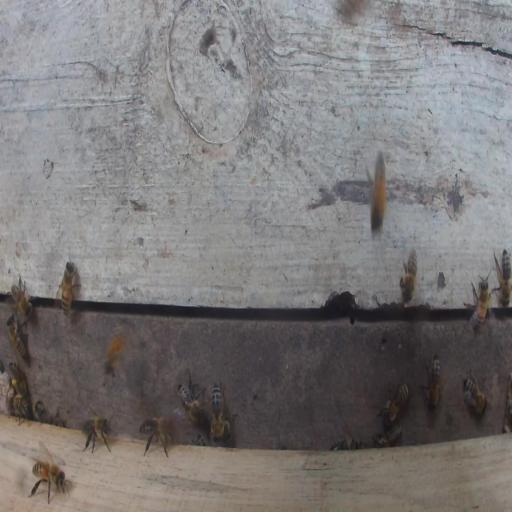bee: (28, 459, 71, 505), (366, 149, 387, 235), (138, 414, 174, 458), (467, 271, 491, 336), (176, 378, 206, 429), (378, 381, 410, 424), (81, 412, 113, 454), (418, 353, 442, 409), (208, 383, 226, 444), (462, 374, 488, 416), (399, 247, 418, 304), (7, 313, 29, 362), (11, 275, 33, 324), (61, 260, 75, 315), (372, 424, 402, 447), (9, 361, 27, 398), (501, 248, 511, 307), (10, 394, 31, 421), (33, 399, 45, 421)
